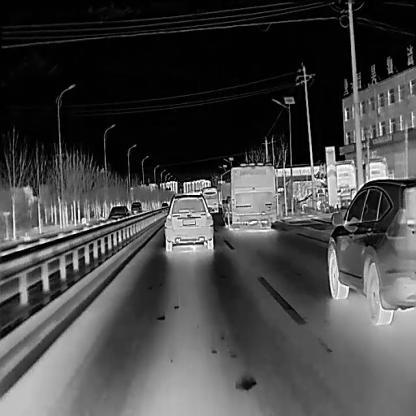car: (327, 175, 416, 325), (219, 161, 276, 229), (162, 191, 213, 253), (321, 159, 356, 208), (355, 161, 387, 186), (297, 192, 326, 212), (106, 205, 128, 228), (200, 185, 218, 211), (129, 201, 142, 218), (161, 202, 168, 212)
